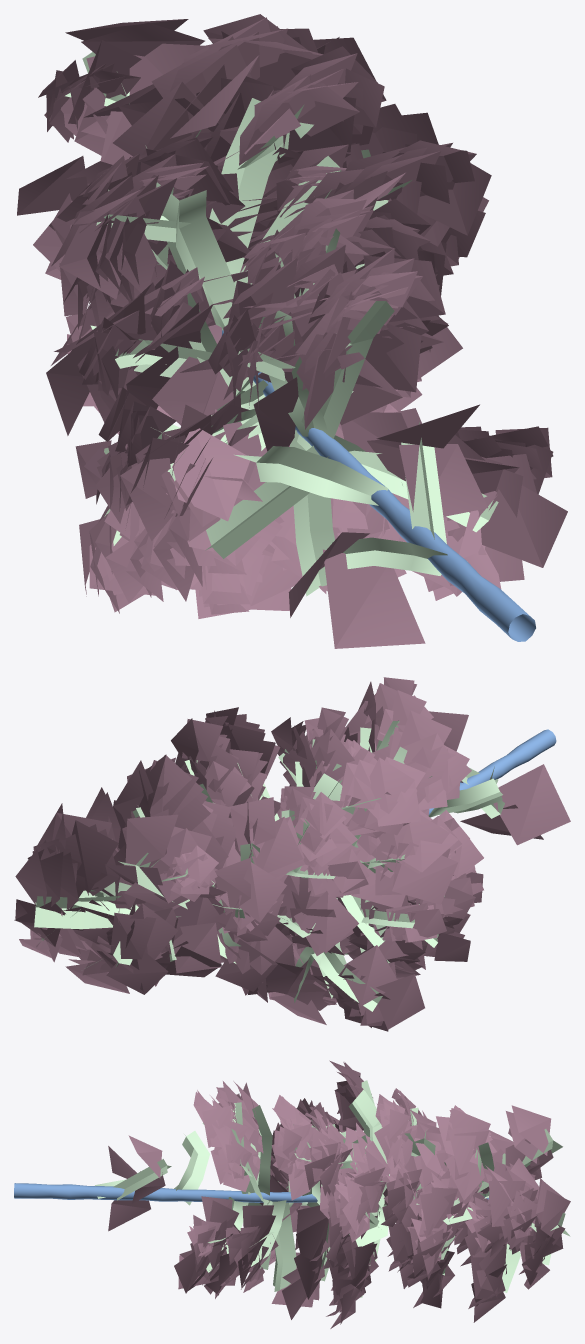
File: Tree_0015.FBX
3 renders of one model, top to bottom at view 1: azimuth 30°, elevation 25°; view 2: azimuth 150°, elevation 25°; view 3: azimuth 270°, elevation 25°, orthographic. The views are drawn at different scales.
Parts seen in each view (by area): view 1: Tree_0015_LOD0; view 2: Tree_0015_LOD0; view 3: Tree_0015_LOD0.
Boxes of the visible parts, x1,y1,x2,y2 form: Tree_0015_LOD0: (17,14,567,648); Tree_0015_LOD0: (14,677,570,1031); Tree_0015_LOD0: (14,1060,570,1328).
Size of the model in its own units: 482 by 877 by 429.
